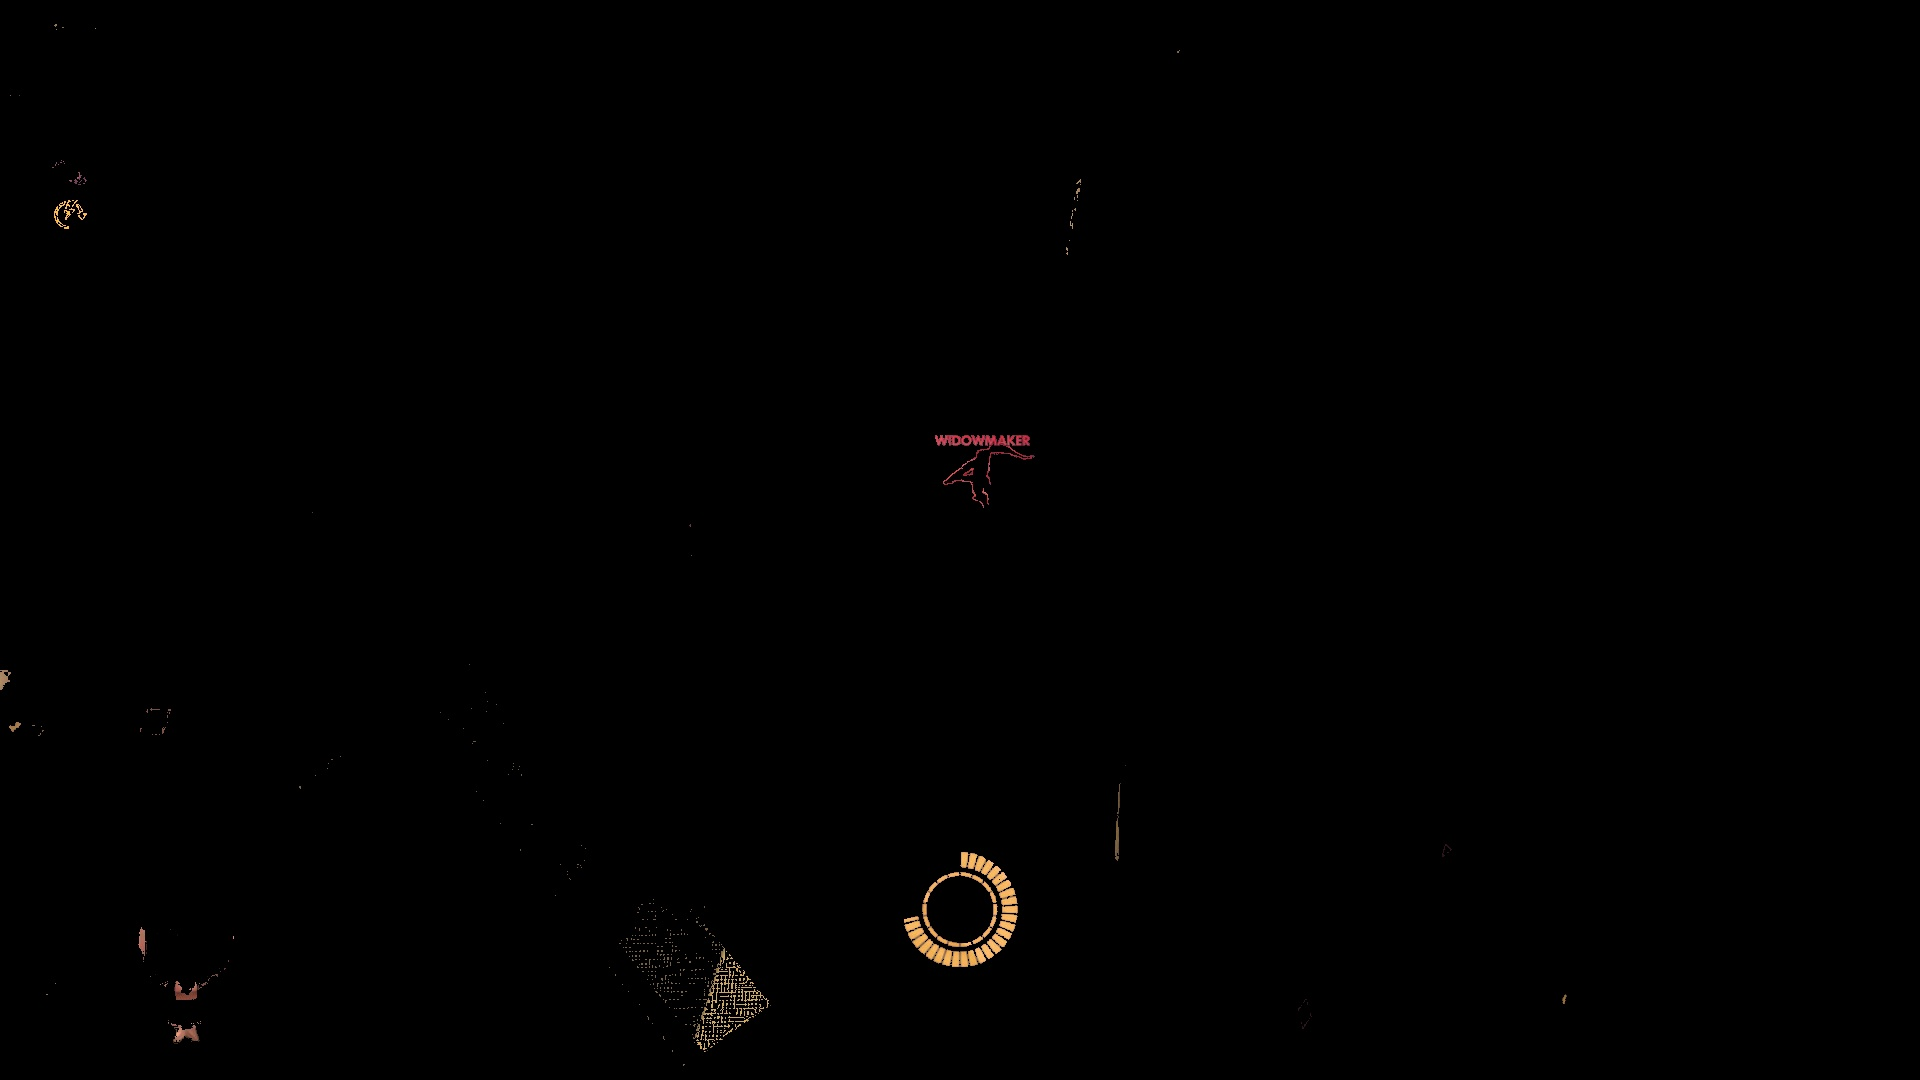widowmaker: (942, 446, 1034, 510)
